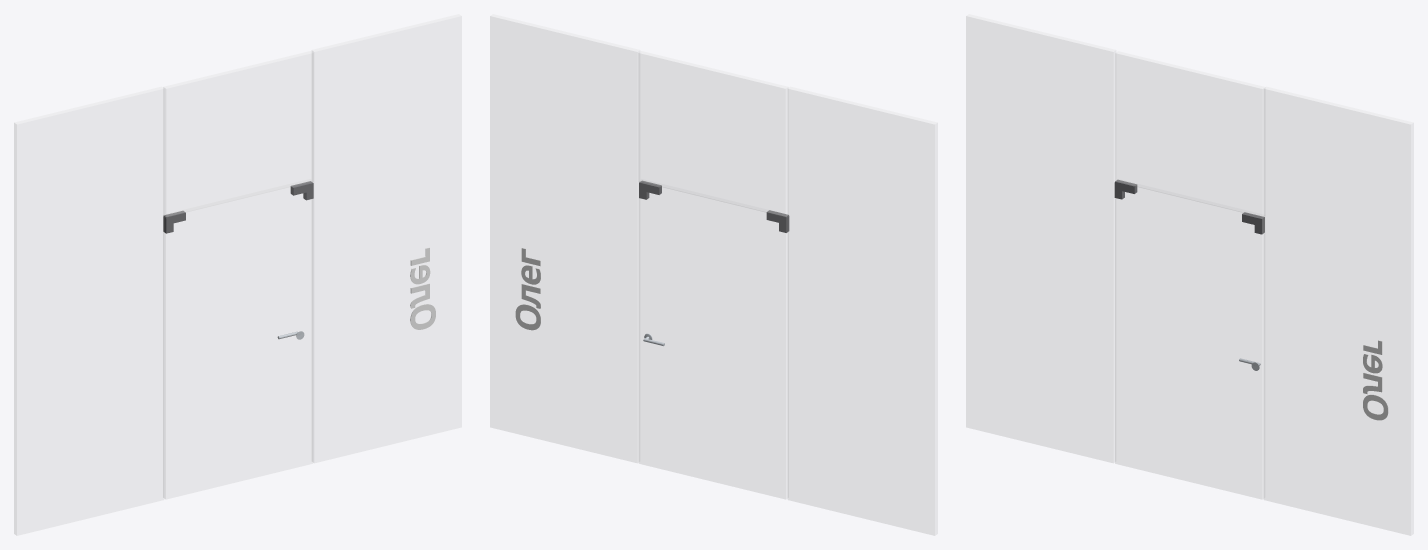
File: OlegGlassWall.glb
3 views of the same model, side by side, from view 1: azimuth 30°, elevation 25°; view 2: azimuth 150°, elevation 25°; view 3: azimuth 330°, elevation 25° (orthographic).
Parts seen in each view (by area): view 1: Glass 2, Glass, Glass 1, Glass 3; view 2: Glass 2, Glass, Glass 1, Glass 3; view 3: Glass, Glass 2, Glass 1, Glass 3.
Part boxes in pixels (x1,y1,x2,y2): Glass 2: [14, 87, 163, 535]; Glass: [312, 14, 461, 462]; Glass 1: [163, 179, 312, 498]; Glass 3: [164, 51, 312, 216]; Glass 2: [788, 87, 937, 535]; Glass: [490, 14, 639, 462]; Glass 1: [639, 179, 788, 498]; Glass 3: [639, 51, 787, 216]; Glass: [1264, 87, 1413, 535]; Glass 2: [966, 14, 1115, 462]; Glass 1: [1115, 179, 1264, 498]; Glass 3: [1116, 51, 1264, 216].
Size of the model in its own units: 0.9053 by 0.8 by 0.0256.
Materials: 13 (1 with a texture image).
